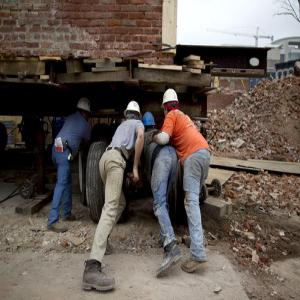blue: (143, 112, 156, 134)
white: (163, 90, 179, 116), (77, 99, 91, 120), (127, 101, 142, 120)
